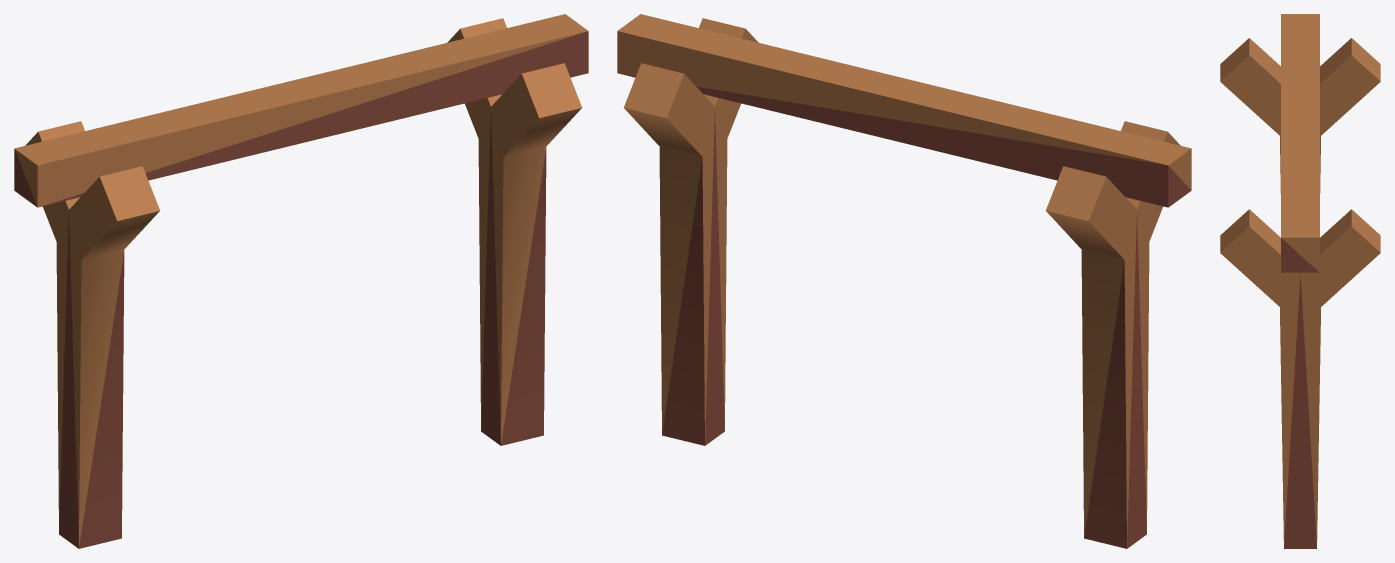
The picture shows the model from 3 angles, left to right: view 1: azimuth 30°, elevation 25°; view 2: azimuth 150°, elevation 25°; view 3: azimuth 270°, elevation 25°; orthographic projection. The views are drawn at different scales.
Parts seen in each view (by area): view 1: model; view 2: model; view 3: model.
Part boxes in pixels (x1,y1,x2,y2): model: [14, 14, 588, 548]; model: [617, 14, 1191, 548]; model: [1220, 14, 1380, 548].
Size of the model in its own units: 1.03 by 0.7025 by 0.3111.
